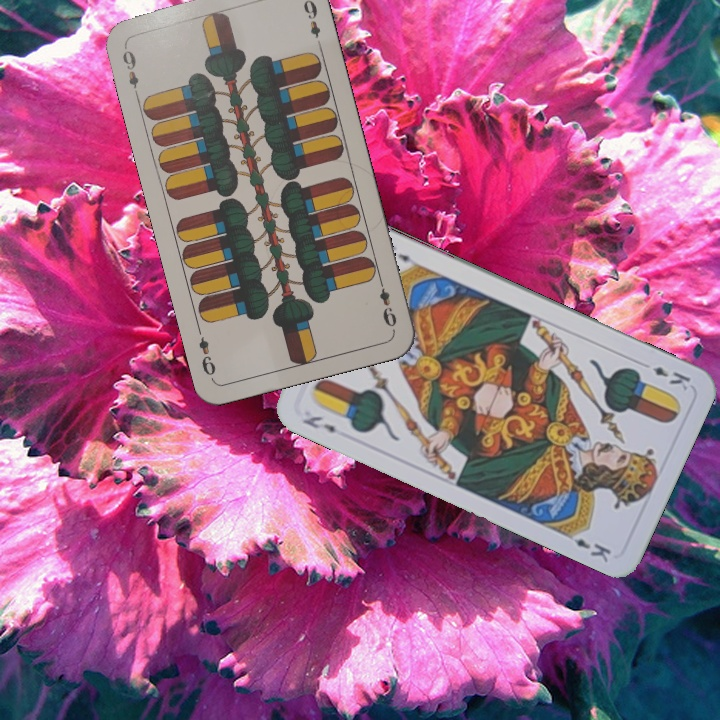E9: (375, 274, 400, 333), (118, 41, 142, 100)
EK: (636, 358, 693, 393), (298, 412, 350, 441)
